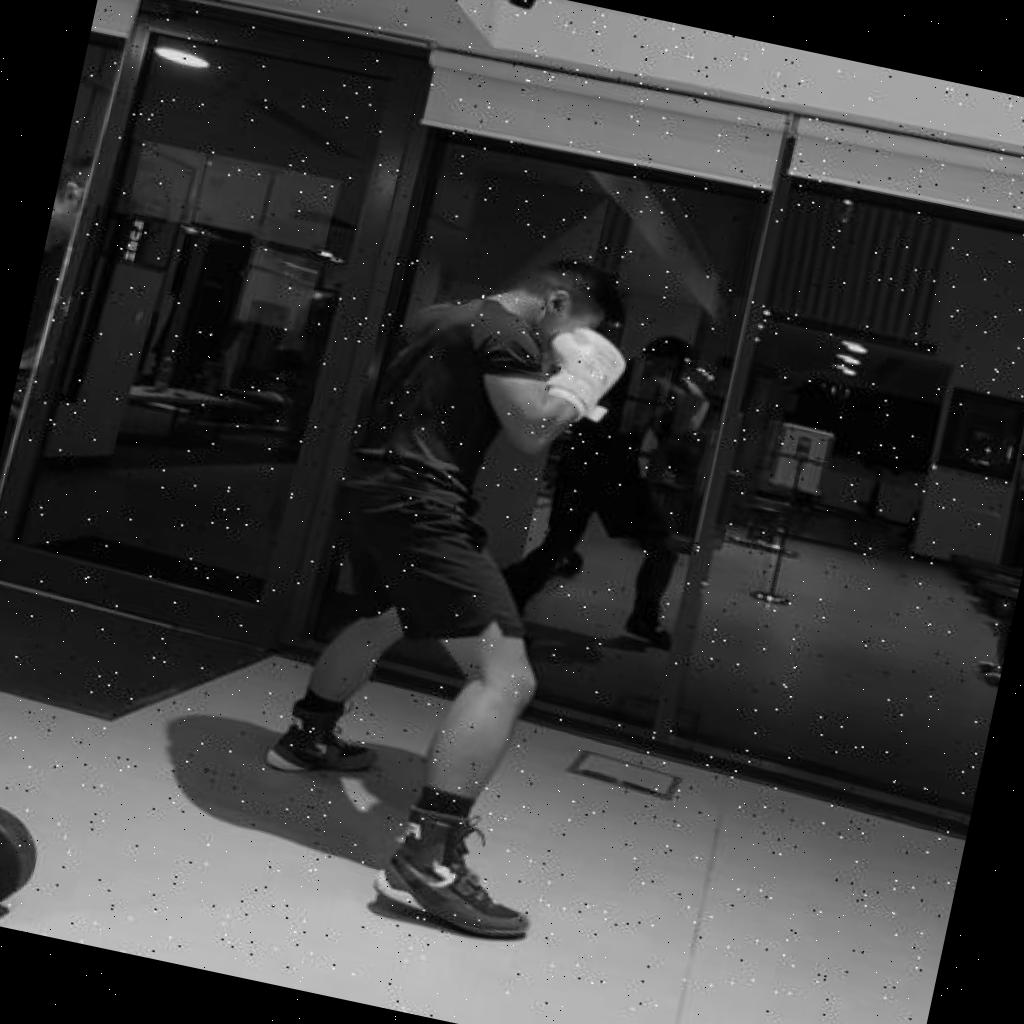no punch: (232, 210, 671, 952)
